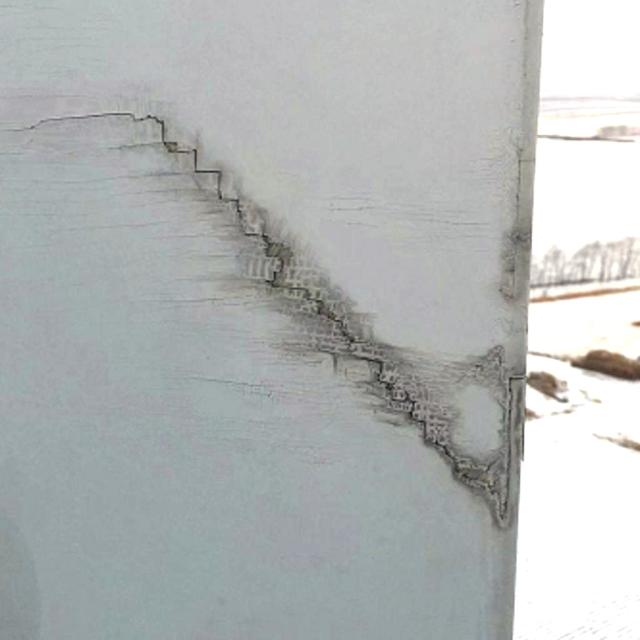crack: (35, 112, 506, 510)
